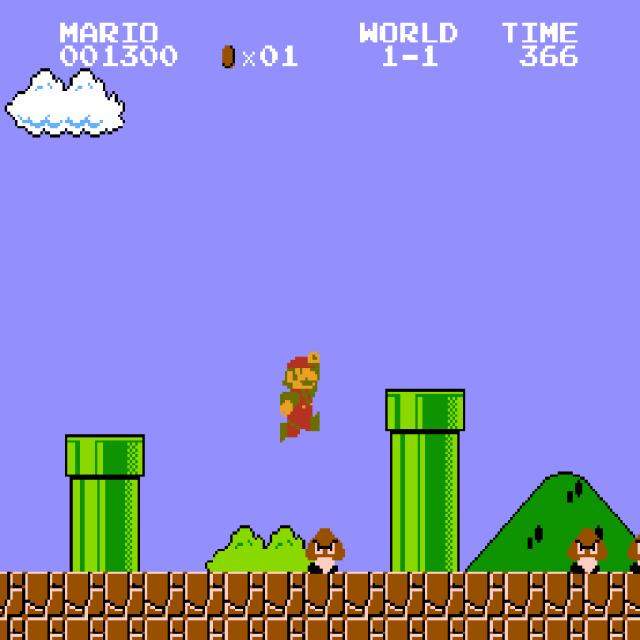big_mario: (277, 348, 320, 442)
goomba: (302, 526, 345, 574), (565, 526, 607, 574), (625, 526, 640, 574)
pipe: (65, 480, 105, 526), (105, 480, 145, 526), (385, 434, 425, 480), (385, 480, 425, 526), (425, 434, 465, 480), (425, 480, 465, 526), (65, 526, 105, 571), (105, 526, 145, 571), (385, 526, 425, 571), (425, 526, 465, 571)
pipe_head: (65, 434, 105, 480), (105, 434, 145, 480), (385, 389, 425, 434), (425, 389, 465, 434)
undestructible_block: (25, 572, 65, 617), (65, 572, 105, 617), (105, 572, 145, 617), (145, 572, 185, 617), (185, 572, 225, 617), (225, 572, 265, 617), (265, 572, 305, 617), (305, 572, 345, 617), (345, 572, 385, 617), (385, 572, 425, 617), (425, 572, 465, 617), (465, 572, 505, 617), (505, 572, 545, 617), (545, 572, 585, 617), (585, 572, 625, 617), (0, 571, 25, 617), (25, 617, 65, 640), (65, 617, 105, 640), (105, 617, 145, 640), (145, 617, 185, 640), (185, 617, 225, 640), (225, 617, 265, 640), (265, 617, 305, 640), (305, 617, 345, 640), (345, 617, 385, 640), (385, 617, 425, 640), (425, 617, 465, 640), (465, 617, 505, 640), (505, 617, 545, 640), (545, 617, 585, 640), (585, 617, 625, 640), (625, 572, 640, 617), (0, 617, 25, 639), (625, 617, 640, 640)
